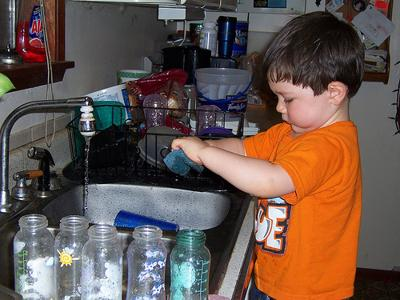person: (171, 8, 368, 298)
